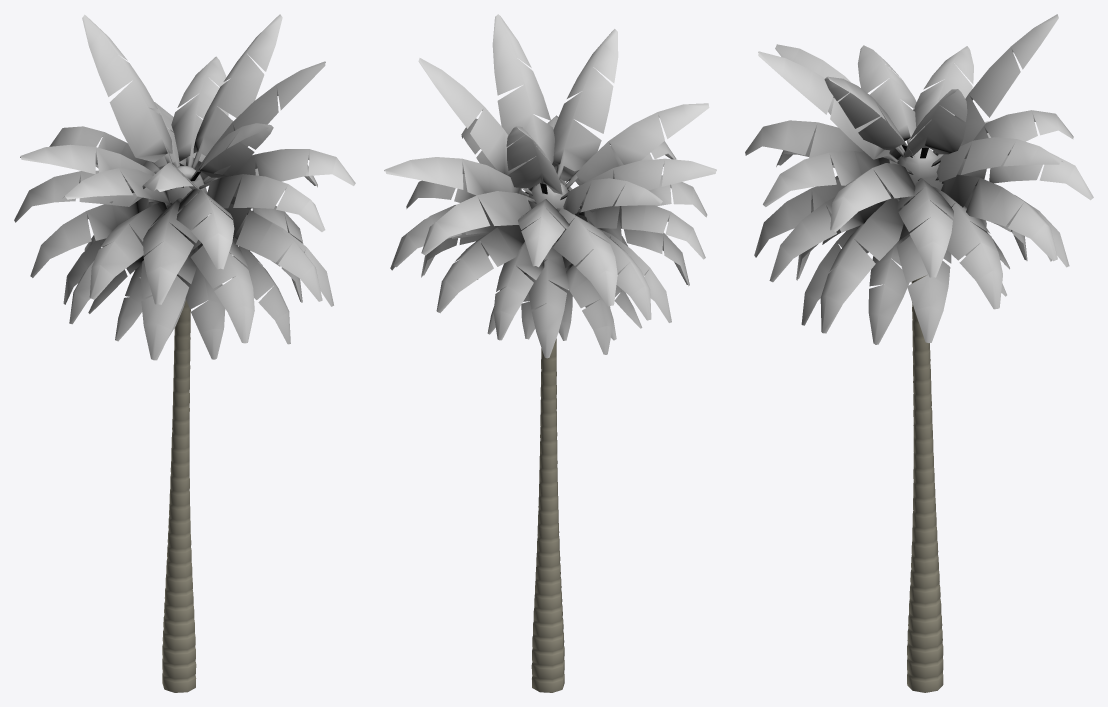
The model's file is ballpit_palmtree_d.fbx.
3 views of the same model, side by side, from view 1: azimuth 30°, elevation 25°; view 2: azimuth 150°, elevation 25°; view 3: azimuth 270°, elevation 25° (orthographic). The views are drawn at different scales.
Parts seen in each view (by area): view 1: Frond Root.003; view 2: Frond Root.003; view 3: Frond Root.003.
Boxes of the visible parts, x1,y1,x2,y2 form: Frond Root.003: (14, 14, 355, 692); Frond Root.003: (384, 14, 716, 692); Frond Root.003: (745, 14, 1093, 692).
Bounding box in the file's own units: 853 × 1802 × 865.
